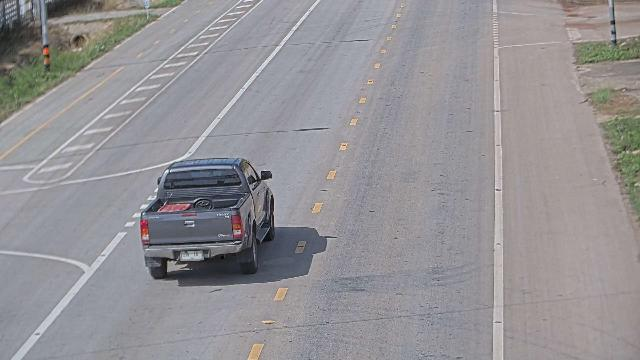pickup-truck: (139, 156, 275, 279)
